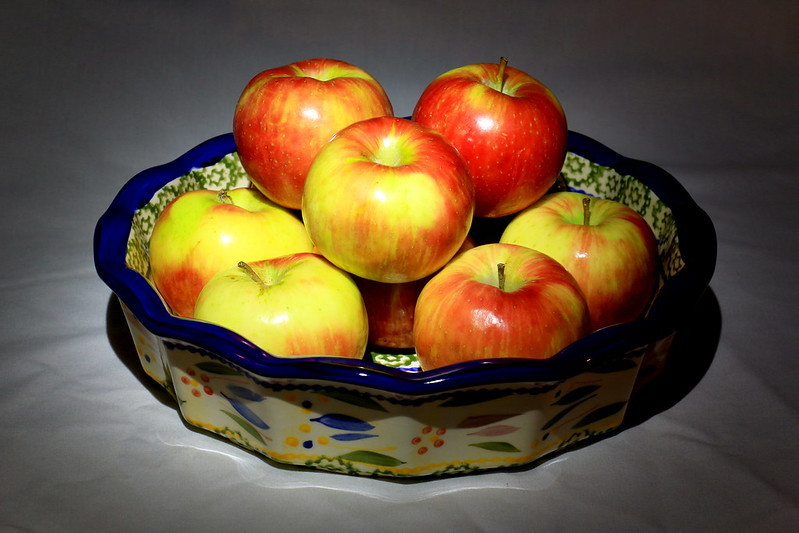apple: (295, 108, 478, 278), (228, 50, 395, 210), (409, 239, 583, 373), (417, 60, 561, 221), (202, 249, 361, 380), (147, 180, 306, 289), (514, 189, 661, 284)
